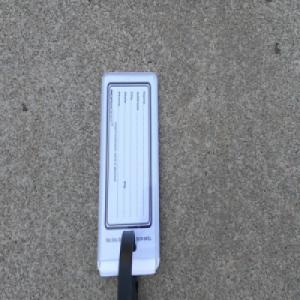LuggageTag: (95, 69, 161, 300)
